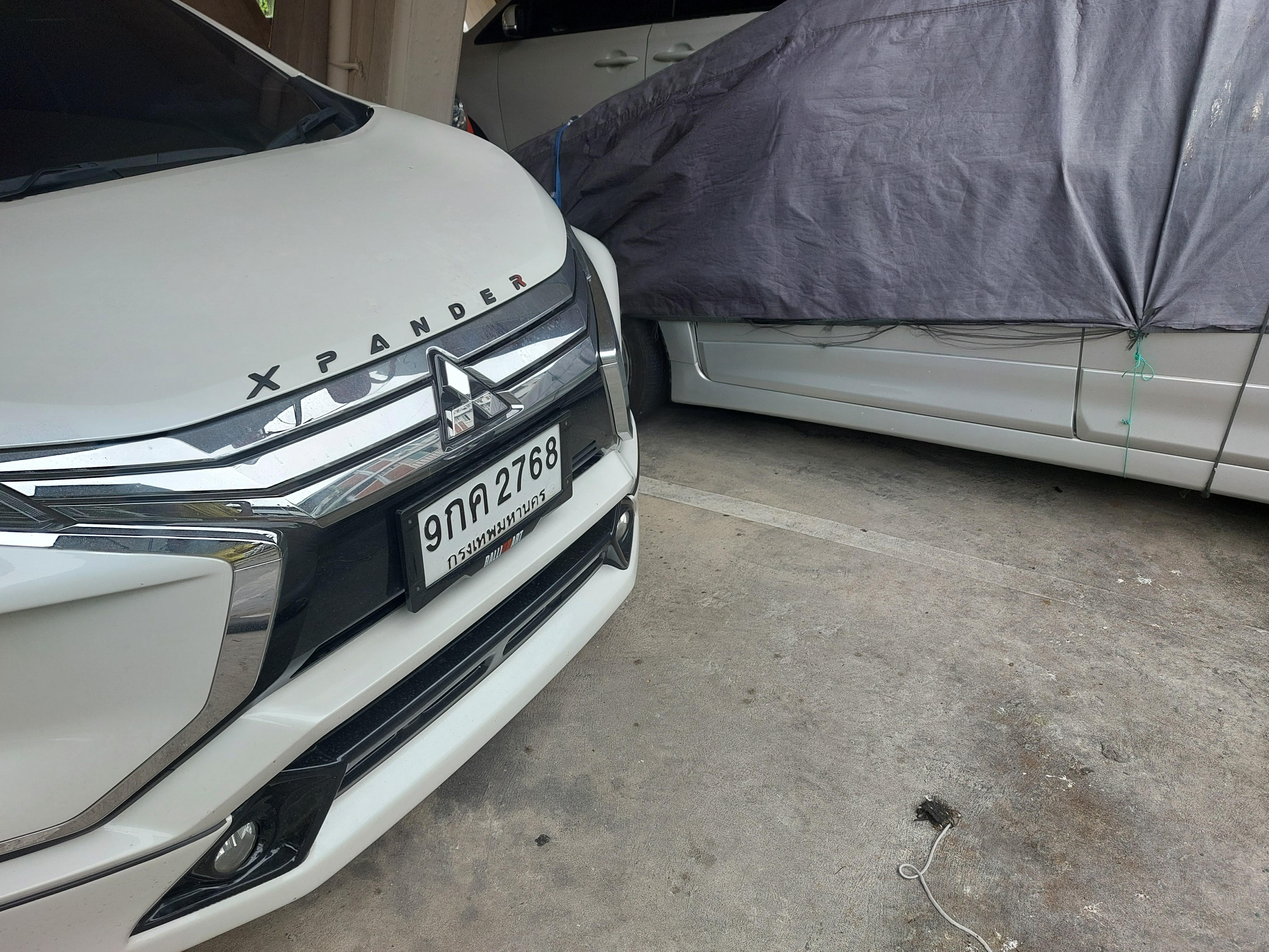license-plate: (401, 404, 575, 617)
